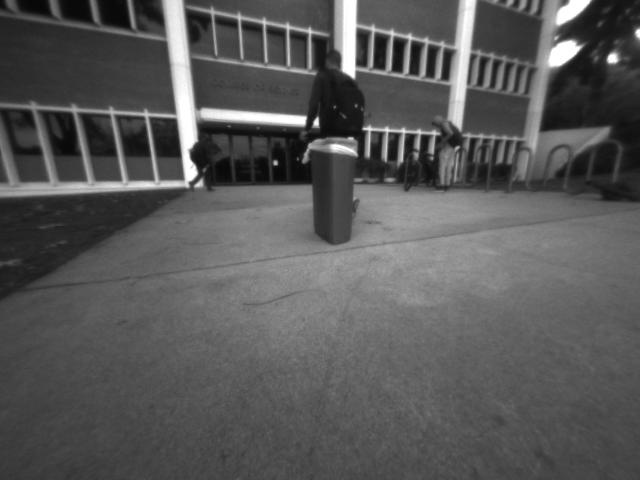trashcan: (303, 135, 363, 248)
